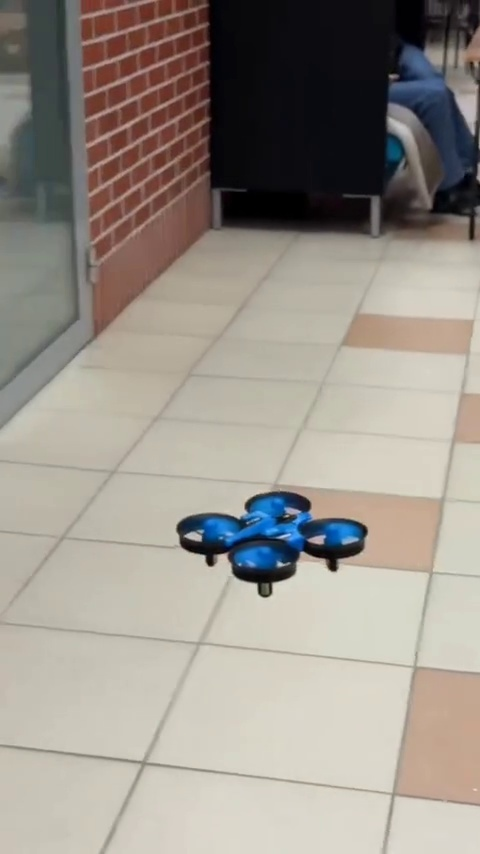drone: (177, 494, 367, 595)
